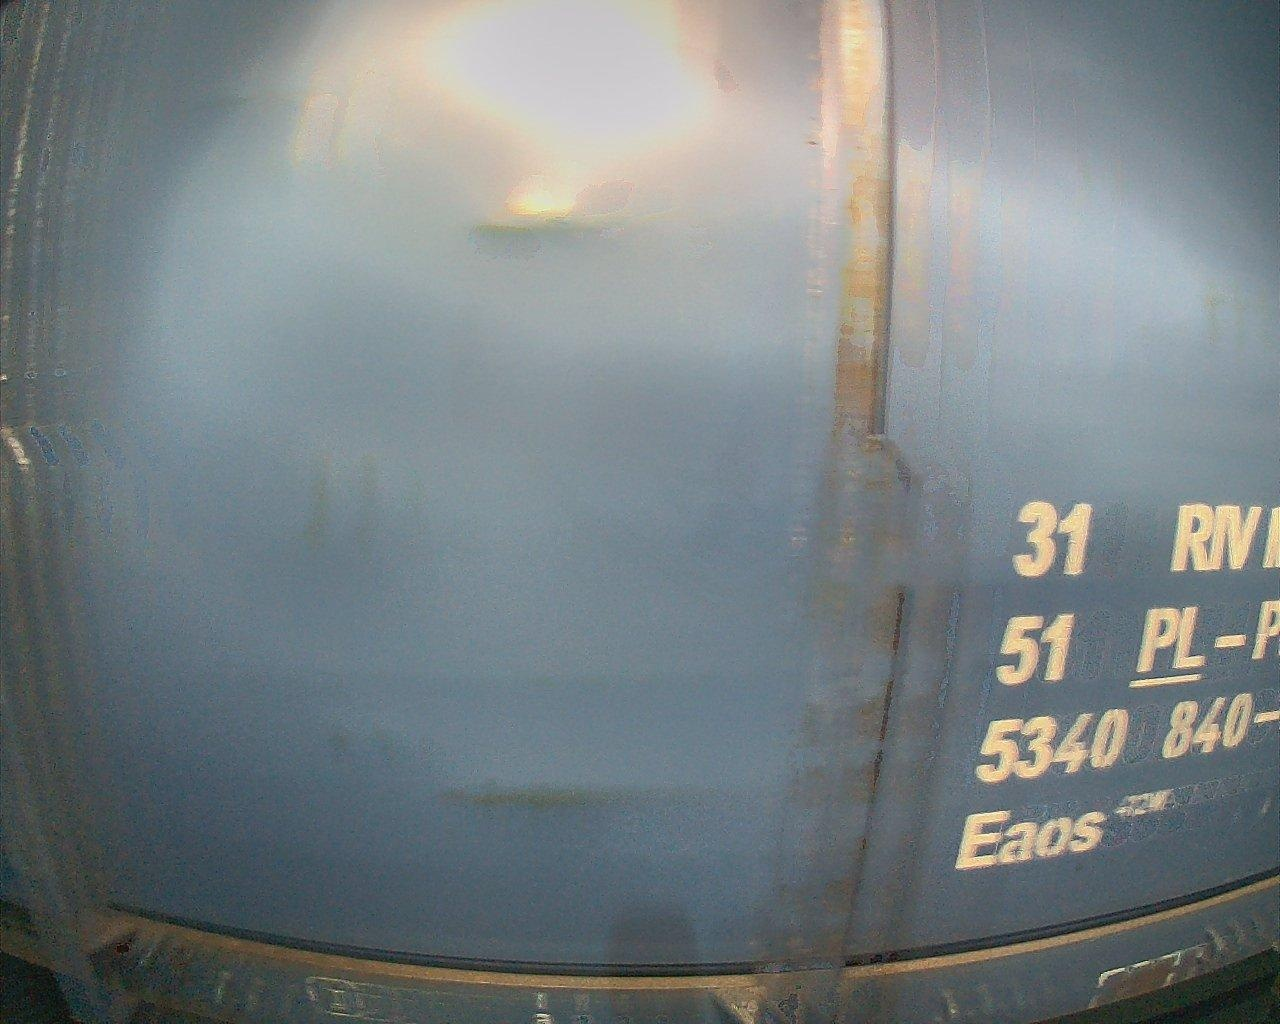UIC: (942, 485, 1280, 880)
